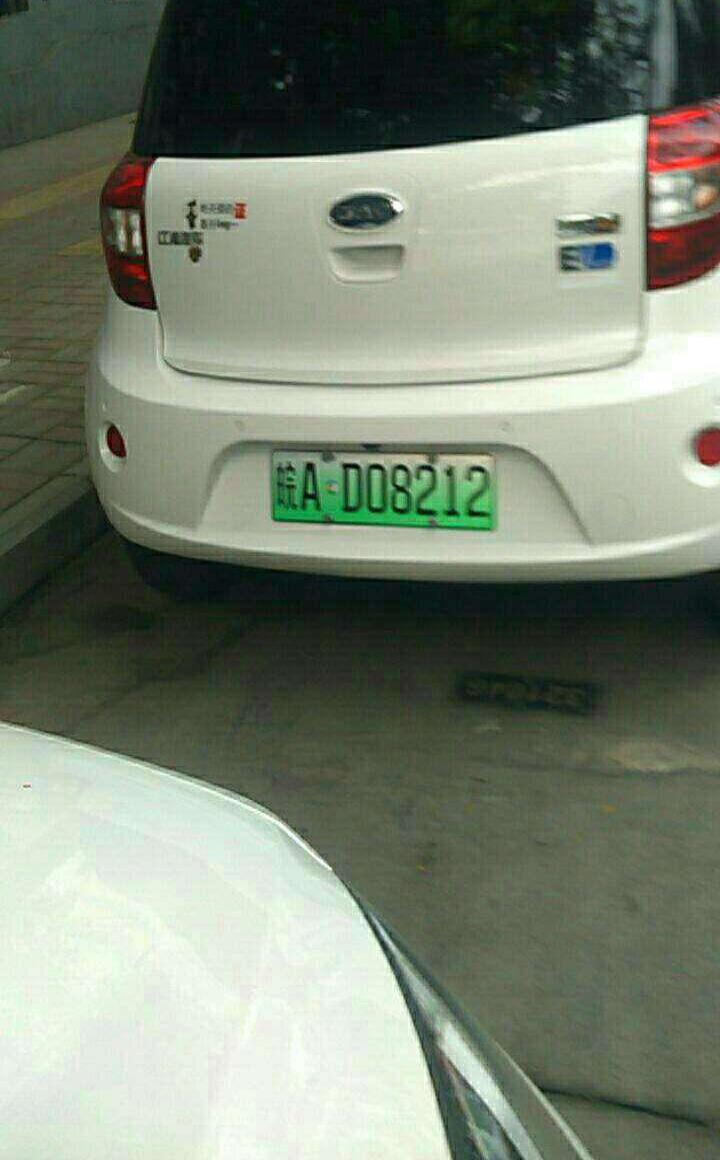car: (270, 442, 509, 541)
